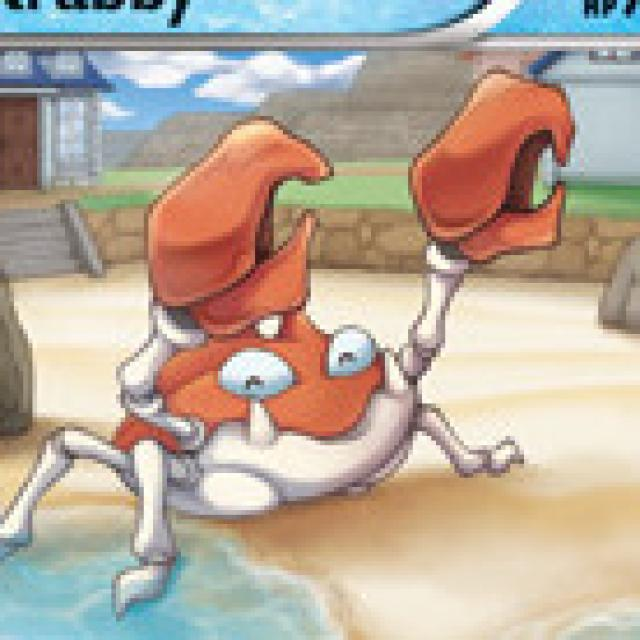Krabby: (20, 63, 585, 559)
